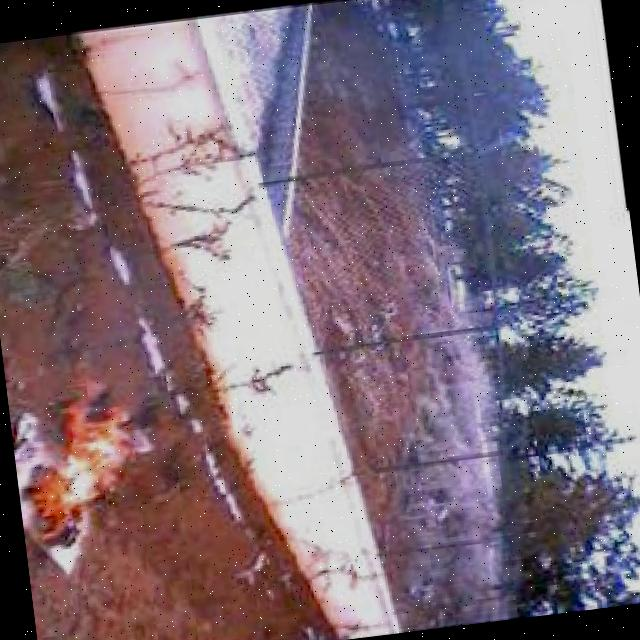fire: (7, 363, 157, 557)
